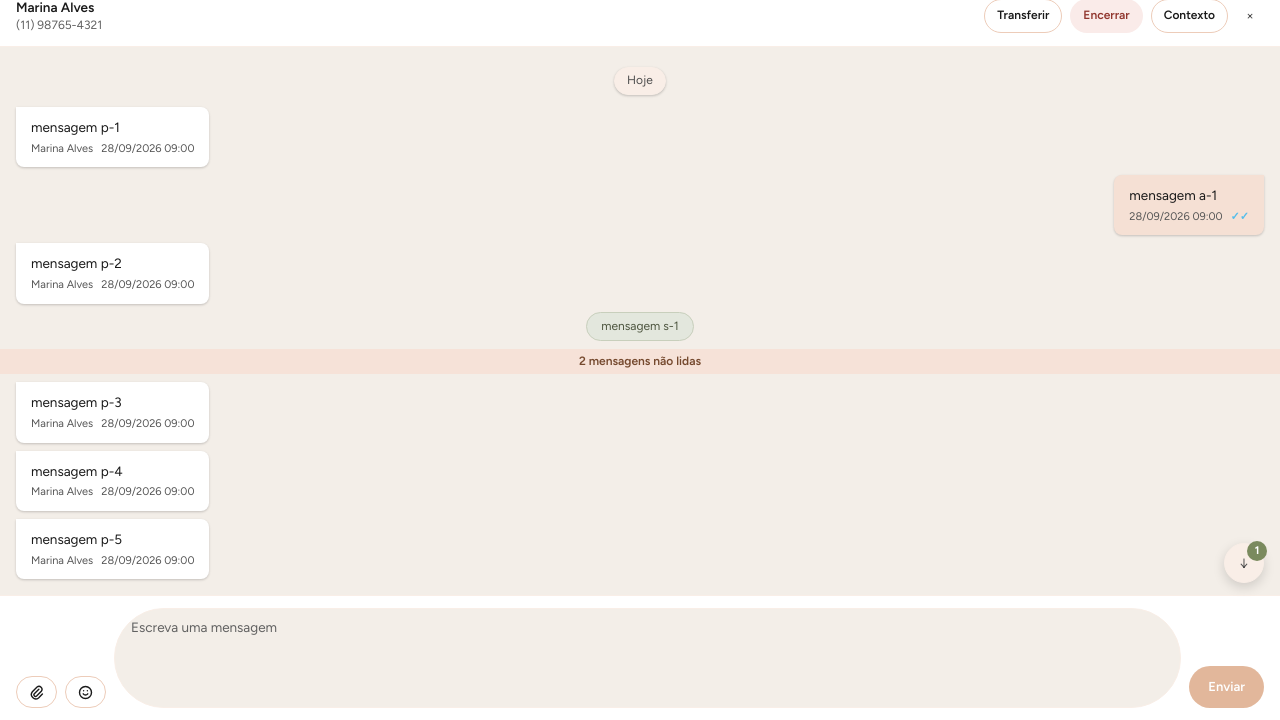
Test case: faixa de não lidas (D-239) › mensagem nova não desloca a faixa; a resposta da atendente a remove
(page scrolled)
Type "Bom dia!" into the text box labelled "mensagem" at (648, 658), box [114,608,1181,708]
Then press Enter
(page scrolled)
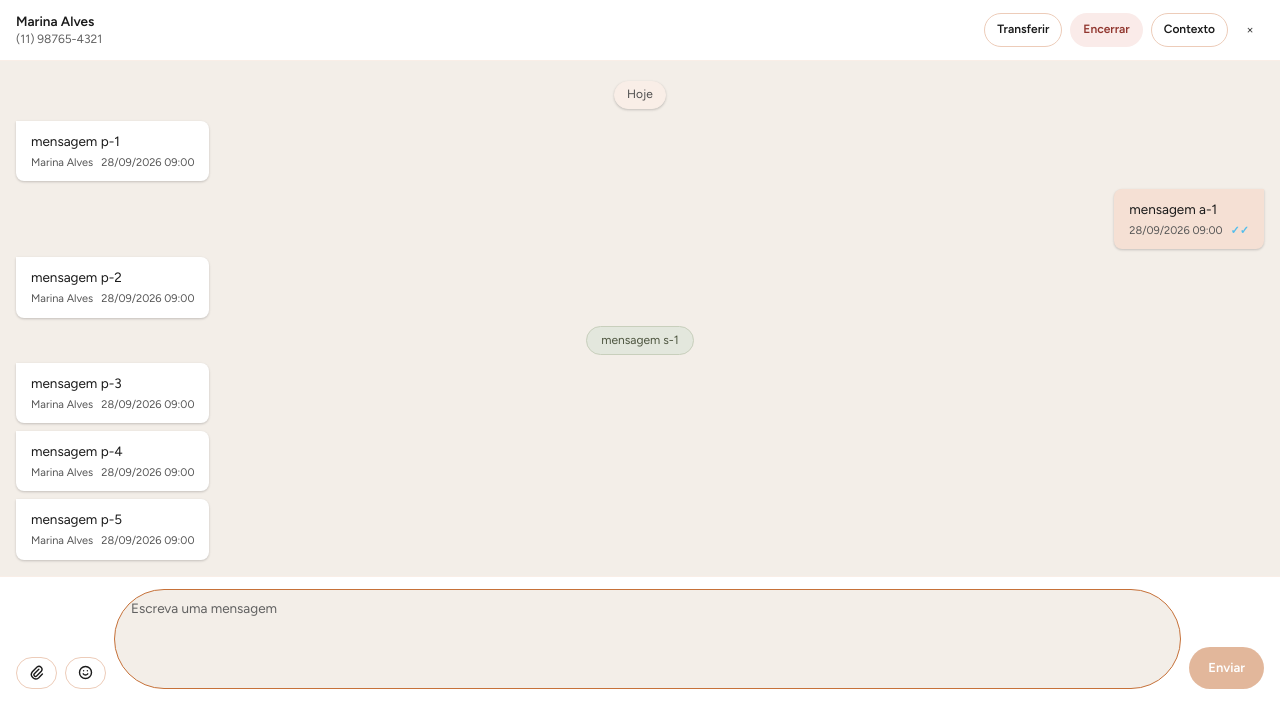
Expected: the element with test id "unread-divider" is gone
